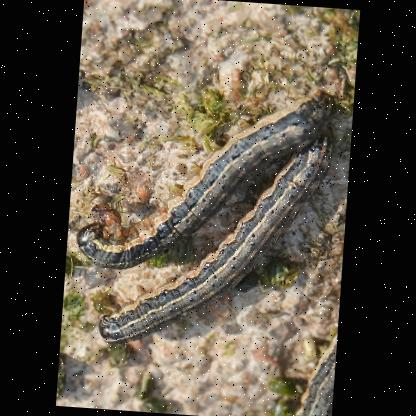Fall Armyworm Larvae: (93, 103, 341, 366), (71, 67, 341, 288), (288, 327, 338, 416)
